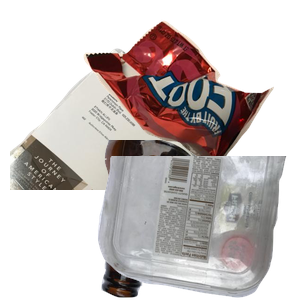glass: (99, 140, 300, 300)
paper: (10, 46, 250, 226)
plastic: (95, 156, 300, 300)
trash: (81, 18, 300, 182)
